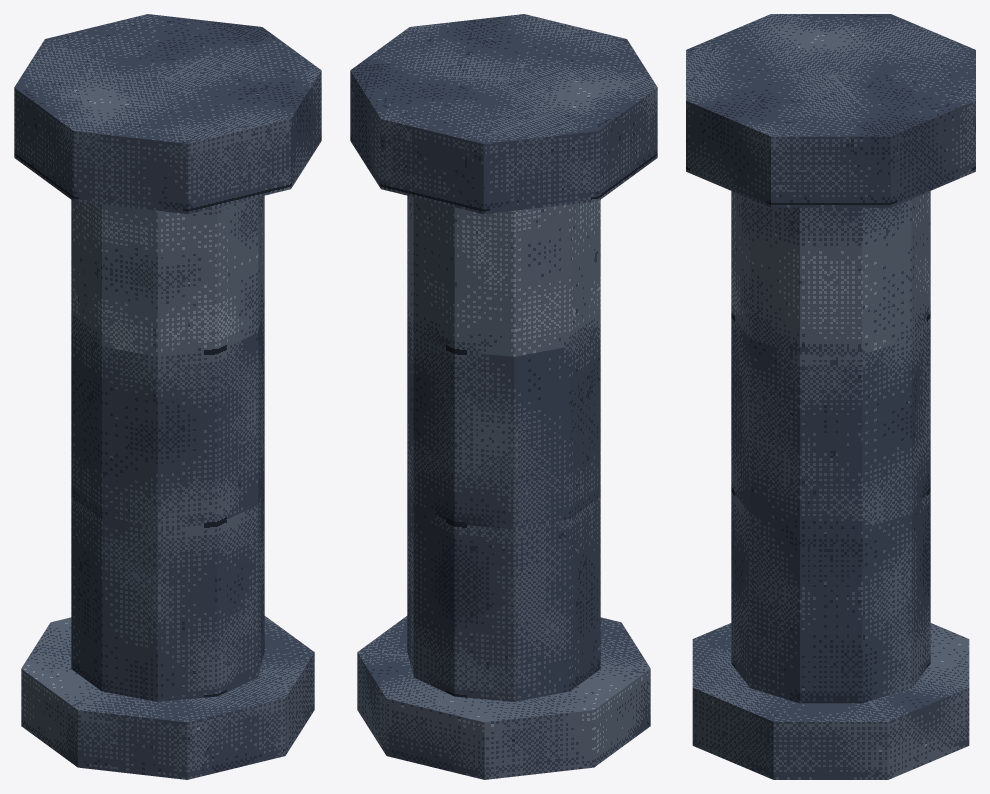
Rendered from SM_Env_ColumnRound_2m.glb.
3 views of the same model, side by side, from view 1: azimuth 30°, elevation 25°; view 2: azimuth 150°, elevation 25°; view 3: azimuth 270°, elevation 25° (orthographic).
Visible parts, largest first — view 1: capital, drum1, drum0, drum2, base; view 2: capital, drum1, drum0, drum2, base; view 3: capital, drum0, drum1, drum2, base.
Part boxes in pixels (x1,y1,x2,y2): capital: (14, 14, 321, 214); drum1: (71, 307, 264, 529); drum0: (71, 479, 264, 701); drum2: (71, 195, 264, 356); base: (21, 616, 314, 779); capital: (350, 14, 657, 214); drum1: (407, 307, 600, 529); drum0: (407, 479, 600, 701); drum2: (407, 195, 600, 356); base: (357, 616, 650, 779); capital: (686, 14, 975, 207); drum0: (731, 489, 930, 703); drum1: (731, 315, 930, 528); drum2: (731, 191, 930, 354); base: (692, 623, 969, 779).
Size of the model in its own units: 0.813 by 2 by 0.813.
Materials: 1 (1 with a texture image).
